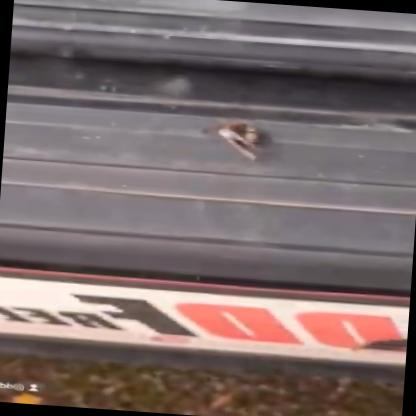hornet: (164, 103, 278, 173)
